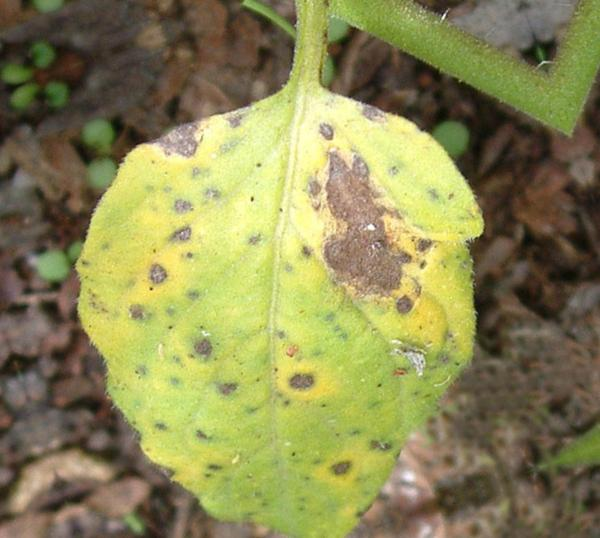Tomato Early blight leaf: (21, 19, 557, 538)
